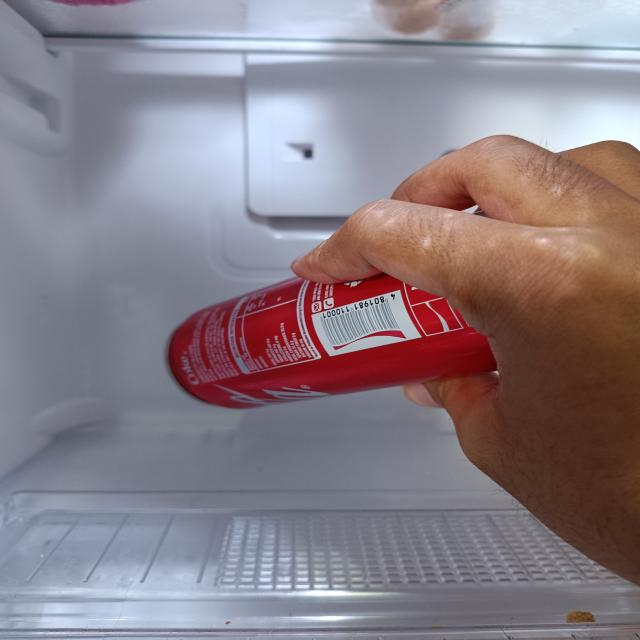coke: (172, 237, 518, 407)
